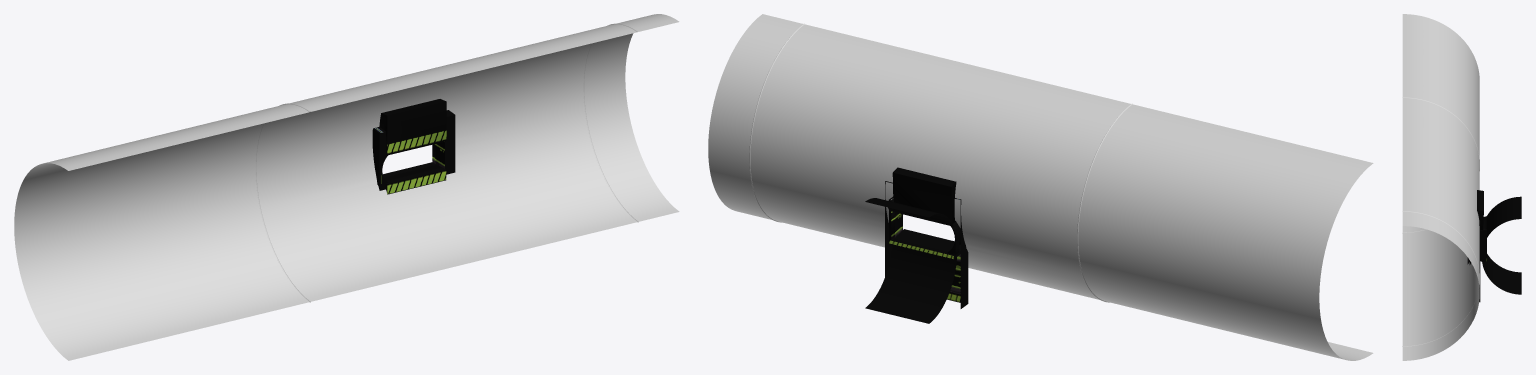
Rendered from SM_MetroPassage_03.fbx.
3 views of the same model, side by side, from view 1: azimuth 30°, elevation 25°; view 2: azimuth 150°, elevation 25°; view 3: azimuth 270°, elevation 25° (orthographic). The views are drawn at different scales.
Visible parts, largest first — view 1: SM_WallArch_Large_Hole, SM_MetroPassage_03; view 2: SM_WallArch_Large_Hole, SM_MetroPassage_03; view 3: SM_WallArch_Large_Hole, SM_MetroPassage_03.
Boxes of the visible parts, x1,y1,x2,y2 form: SM_WallArch_Large_Hole: (14,14,679,360); SM_MetroPassage_03: (372,99,455,194); SM_WallArch_Large_Hole: (708,14,1373,360); SM_MetroPassage_03: (865,167,968,323); SM_WallArch_Large_Hole: (1402,14,1479,360); SM_MetroPassage_03: (1467,190,1521,302).
Bounding box in the file's own units: 88.98 × 27.06 × 21.21.
